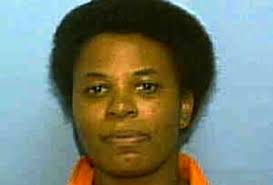black_female: (52, 3, 233, 178)
